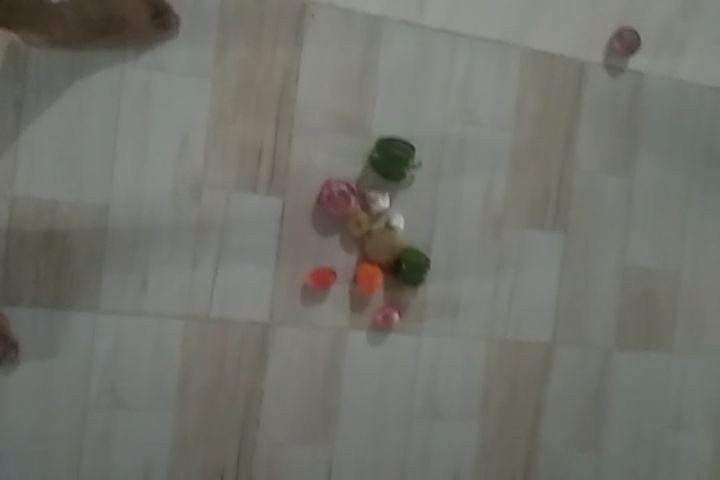capsicum: (367, 136, 420, 189), (393, 246, 433, 285)
garlic: (363, 192, 393, 214), (383, 210, 409, 228)
onion: (321, 179, 355, 218), (608, 23, 641, 54), (376, 305, 397, 329)
potato: (363, 226, 402, 260), (352, 213, 372, 235)
tomato: (356, 262, 384, 294), (306, 270, 338, 292)
